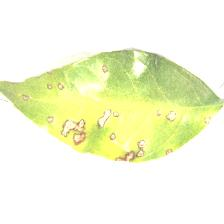canker: (12, 84, 213, 164)
